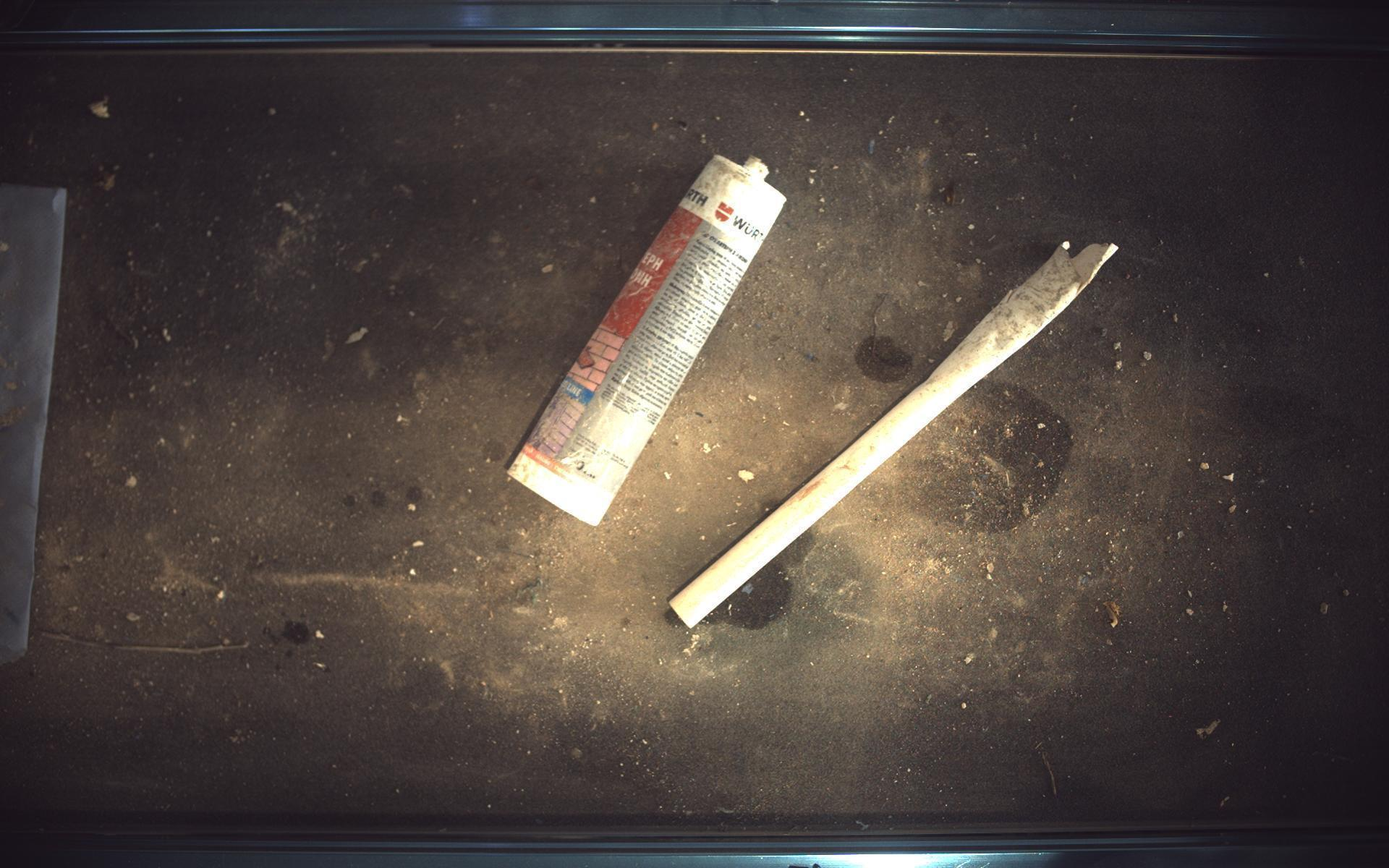pipes: (671, 243, 1121, 629)
plastic: (509, 154, 787, 526)
